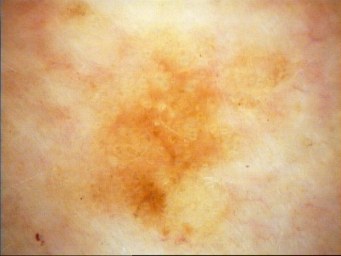melanoma: (87, 52, 237, 250), (263, 53, 295, 89)
